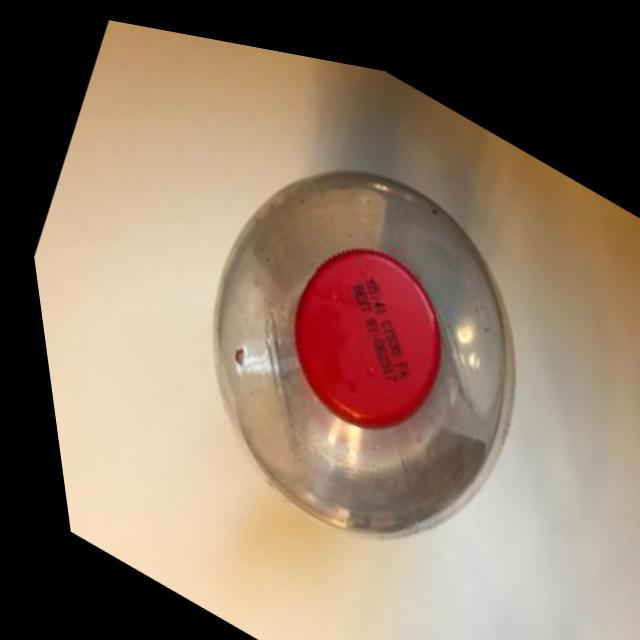plastic: (61, 9, 640, 640)
